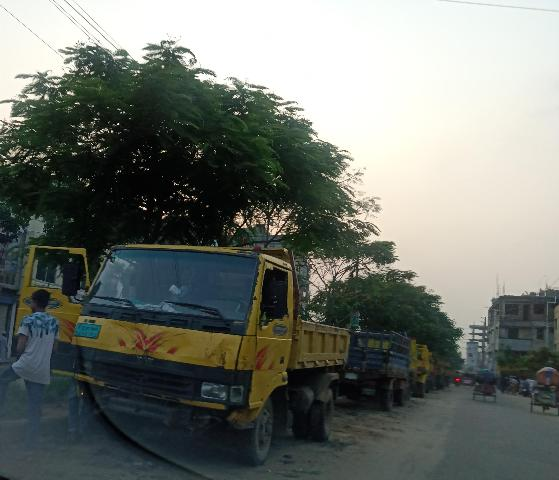truck: (21, 231, 349, 465), (351, 328, 420, 403)
